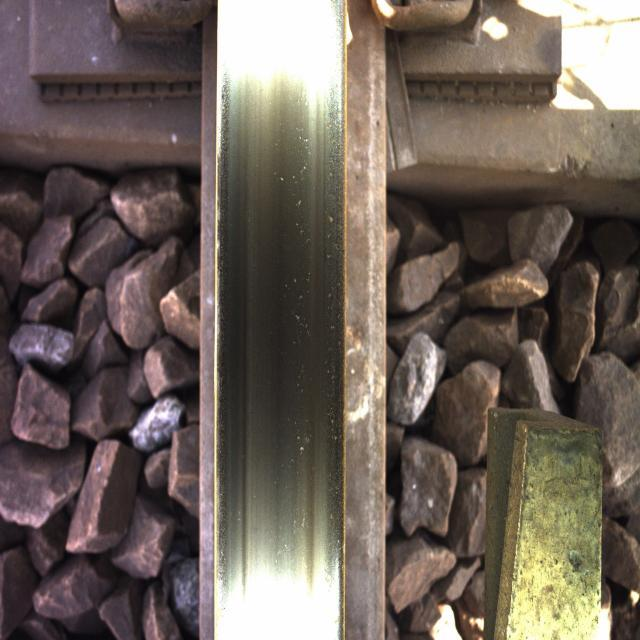break: (226, 40, 332, 594)
